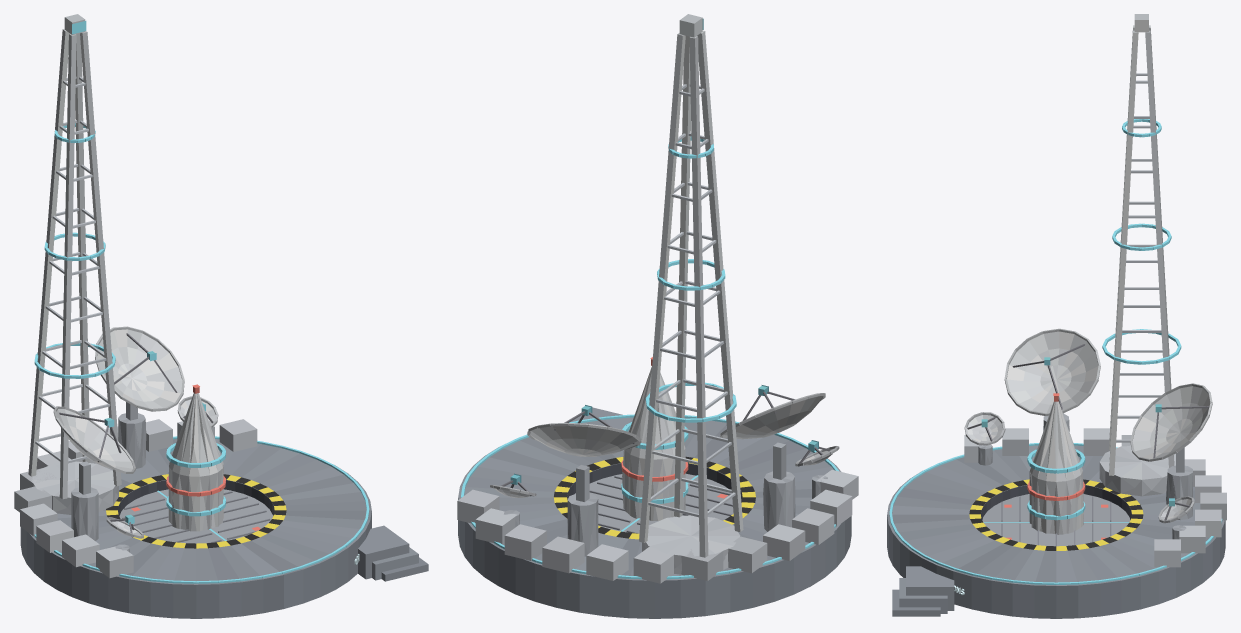
File: orbital_hq.glb
3 views of the same model, side by side, from view 1: azimuth 30°, elevation 25°; view 2: azimuth 150°, elevation 25°; view 3: azimuth 270°, elevation 25° (orthographic). The views are drawn at different scales.
Visible parts, largest first — view 1: orbital_hq__state_closed__solid, orbital_hq__state_open__solid, orbital_hq__state_closed__neon, orbital_hq__state_open__neon; view 2: orbital_hq__state_closed__solid, orbital_hq__state_open__solid, orbital_hq__state_closed__neon, orbital_hq__state_open__neon; view 3: orbital_hq__state_closed__solid, orbital_hq__state_open__solid, orbital_hq__state_closed__neon, orbital_hq__state_open__neon.
Boxes of the visible parts, x1,y1,x2,y2 form: orbital_hq__state_closed__solid: (14,14,428,618); orbital_hq__state_open__solid: (52,386,223,552); orbital_hq__state_closed__neon: (34,21,369,583); orbital_hq__state_open__neon: (166,384,225,516); orbital_hq__state_closed__solid: (457,14,858,618); orbital_hq__state_open__solid: (515,359,815,574); orbital_hq__state_closed__neon: (461,18,838,579); orbital_hq__state_open__neon: (621,357,688,503); orbital_hq__state_closed__solid: (887,14,1226,618); orbital_hq__state_open__solid: (978,396,1187,539); orbital_hq__state_closed__neon: (889,119,1222,584); orbital_hq__state_open__neon: (1027,393,1085,520).
Bounding box in the file's own units: 56.2 × 90.2 × 56.2.
